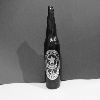beer: (41, 4, 66, 91)
